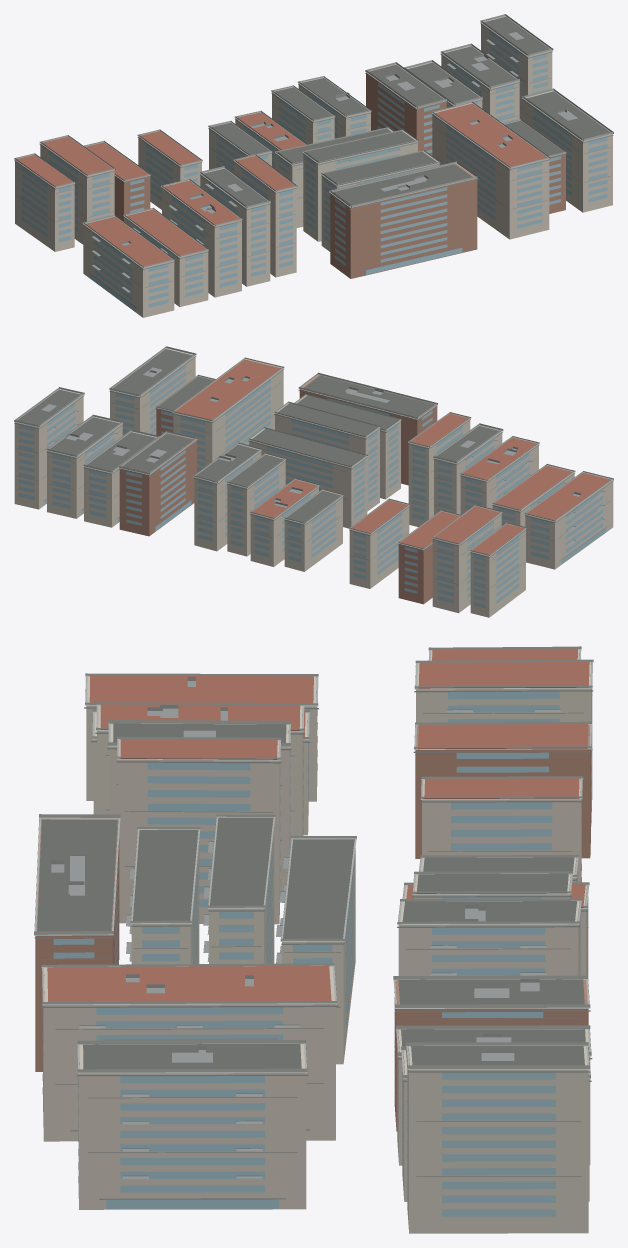
File: tile-p002-p001.glb
3 renders of one model, top to bottom at view 1: azimuth 30°, elevation 25°; view 2: azimuth 150°, elevation 25°; view 3: azimuth 270°, elevation 25°, orthographic. The views are drawn at different scales.
Parts seen in each view (by area): view 1: building-1172-mesh-53, building-1241-mesh-101, building-1243-mesh-113, building-1100-mesh-0, building-1172-mesh-54, building-1105-mesh-32, building-1102-mesh-13, building-1241-mesh-105, building-1241-mesh-102, building-1245-mesh-120, building-1103-mesh-20, building-1104-mesh-27 (+62 smaller); view 2: building-1245-mesh-120, building-1241-mesh-101, building-1100-mesh-0, building-1248-mesh-140, building-1105-mesh-32, building-1175-mesh-71, building-1241-mesh-105, building-1106-mesh-37, building-1108-mesh-48, building-1176-mesh-77, building-1247-mesh-133, building-1179-mesh-94 (+66 smaller); view 3: building-1248-mesh-140, building-1243-mesh-113, building-1241-mesh-101, building-1243-mesh-114, building-1248-mesh-141, building-1241-mesh-105, building-1104-mesh-27, building-1172-mesh-56, building-1108-mesh-48, building-1179-mesh-94, building-1175-mesh-75, building-1100-mesh-4 (+61 smaller).
Boxes of the visible parts, <box> form: building-1172-mesh-53: <box>330,164,477,278</box>; building-1241-mesh-101: <box>432,103,549,239</box>; building-1243-mesh-113: <box>523,91,612,212</box>; building-1100-mesh-0: <box>83,216,174,317</box>; building-1172-mesh-54: <box>335,187,462,274</box>; building-1105-mesh-32: <box>15,160,74,251</box>; building-1102-mesh-13: <box>162,187,241,297</box>; building-1241-mesh-105: <box>435,103,547,166</box>; building-1241-mesh-102: <box>446,125,542,228</box>; building-1245-mesh-120: <box>366,64,446,155</box>; building-1103-mesh-20: <box>200,168,270,286</box>; building-1104-mesh-27: <box>234,161,296,277</box>; building-1245-mesh-120: <box>119,433,196,536</box>; building-1241-mesh-101: <box>173,359,283,472</box>; building-1100-mesh-0: <box>525,472,613,569</box>; building-1248-mesh-140: <box>14,389,83,509</box>; building-1105-mesh-32: <box>470,529,525,617</box>; building-1175-mesh-71: <box>249,429,367,528</box>; building-1241-mesh-105: <box>175,359,280,419</box>; building-1106-mesh-37: <box>432,513,501,613</box>; building-1108-mesh-48: <box>349,506,409,588</box>; building-1176-mesh-77: <box>284,490,342,571</box>; building-1247-mesh-133: <box>47,417,122,518</box>; building-1179-mesh-94: <box>194,444,261,551</box>; building-1248-mesh-140: <box>407,1046,588,1233</box>; building-1243-mesh-113: <box>78,1044,306,1209</box>; building-1241-mesh-101: <box>43,966,335,1141</box>; building-1243-mesh-114: <box>78,1076,278,1208</box>; building-1248-mesh-141: <box>407,1060,555,1216</box>; building-1241-mesh-105: <box>47,965,331,1001</box>; building-1104-mesh-27: <box>118,740,279,924</box>; building-1172-mesh-56: <box>37,819,117,931</box>; building-1108-mesh-48: <box>422,779,581,882</box>; building-1179-mesh-94: <box>398,901,580,975</box>; building-1175-mesh-75: <box>283,839,354,938</box>; building-1100-mesh-4: <box>89,675,313,703</box>.
Size of the model in its own units: 244 by 41.05 by 124.
